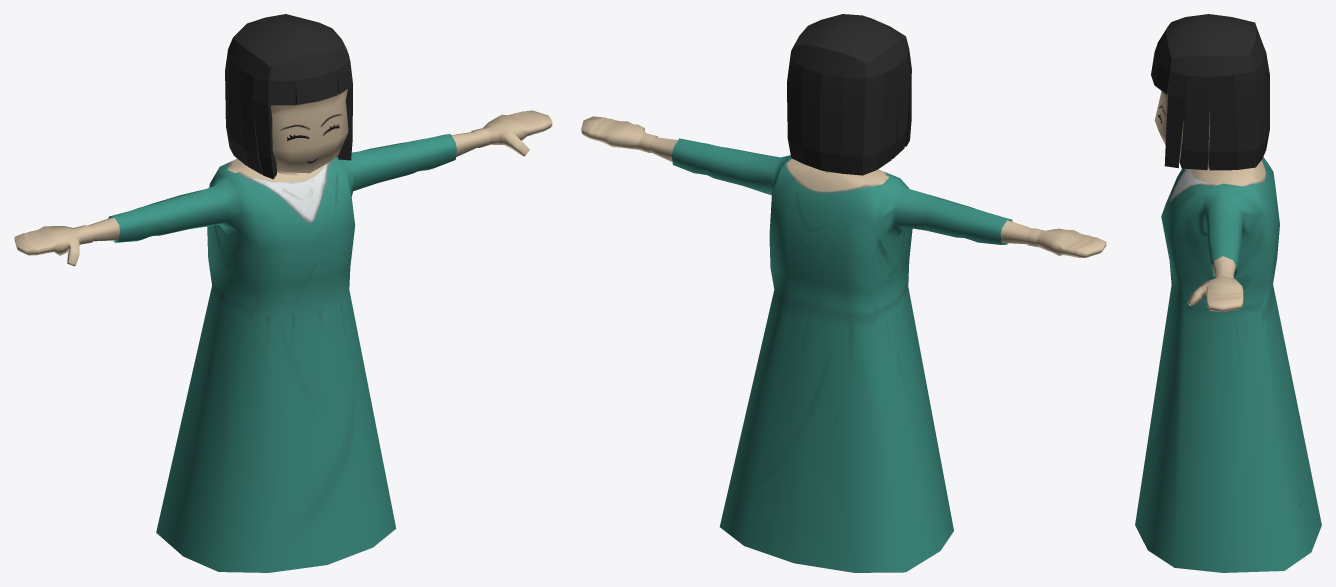
File: Mother_Character.fbx
3 views of the same model, side by side, from view 1: azimuth 30°, elevation 25°; view 2: azimuth 150°, elevation 25°; view 3: azimuth 270°, elevation 25° (orthographic). The views are drawn at different scales.
Parts seen in each view (by area): view 1: Body, hair; view 2: Body, hair; view 3: Body, hair.
Boxes of the visible parts, x1,y1,x2,y2 form: Body: (14, 89, 552, 572); hair: (225, 14, 352, 179); Body: (581, 116, 1106, 572); hair: (787, 14, 911, 175); Body: (1135, 91, 1321, 572); hair: (1151, 14, 1269, 170).
Bounding box in the file's own units: 14.22 × 13.11 × 4.4.
2 materials, 2 textured.
